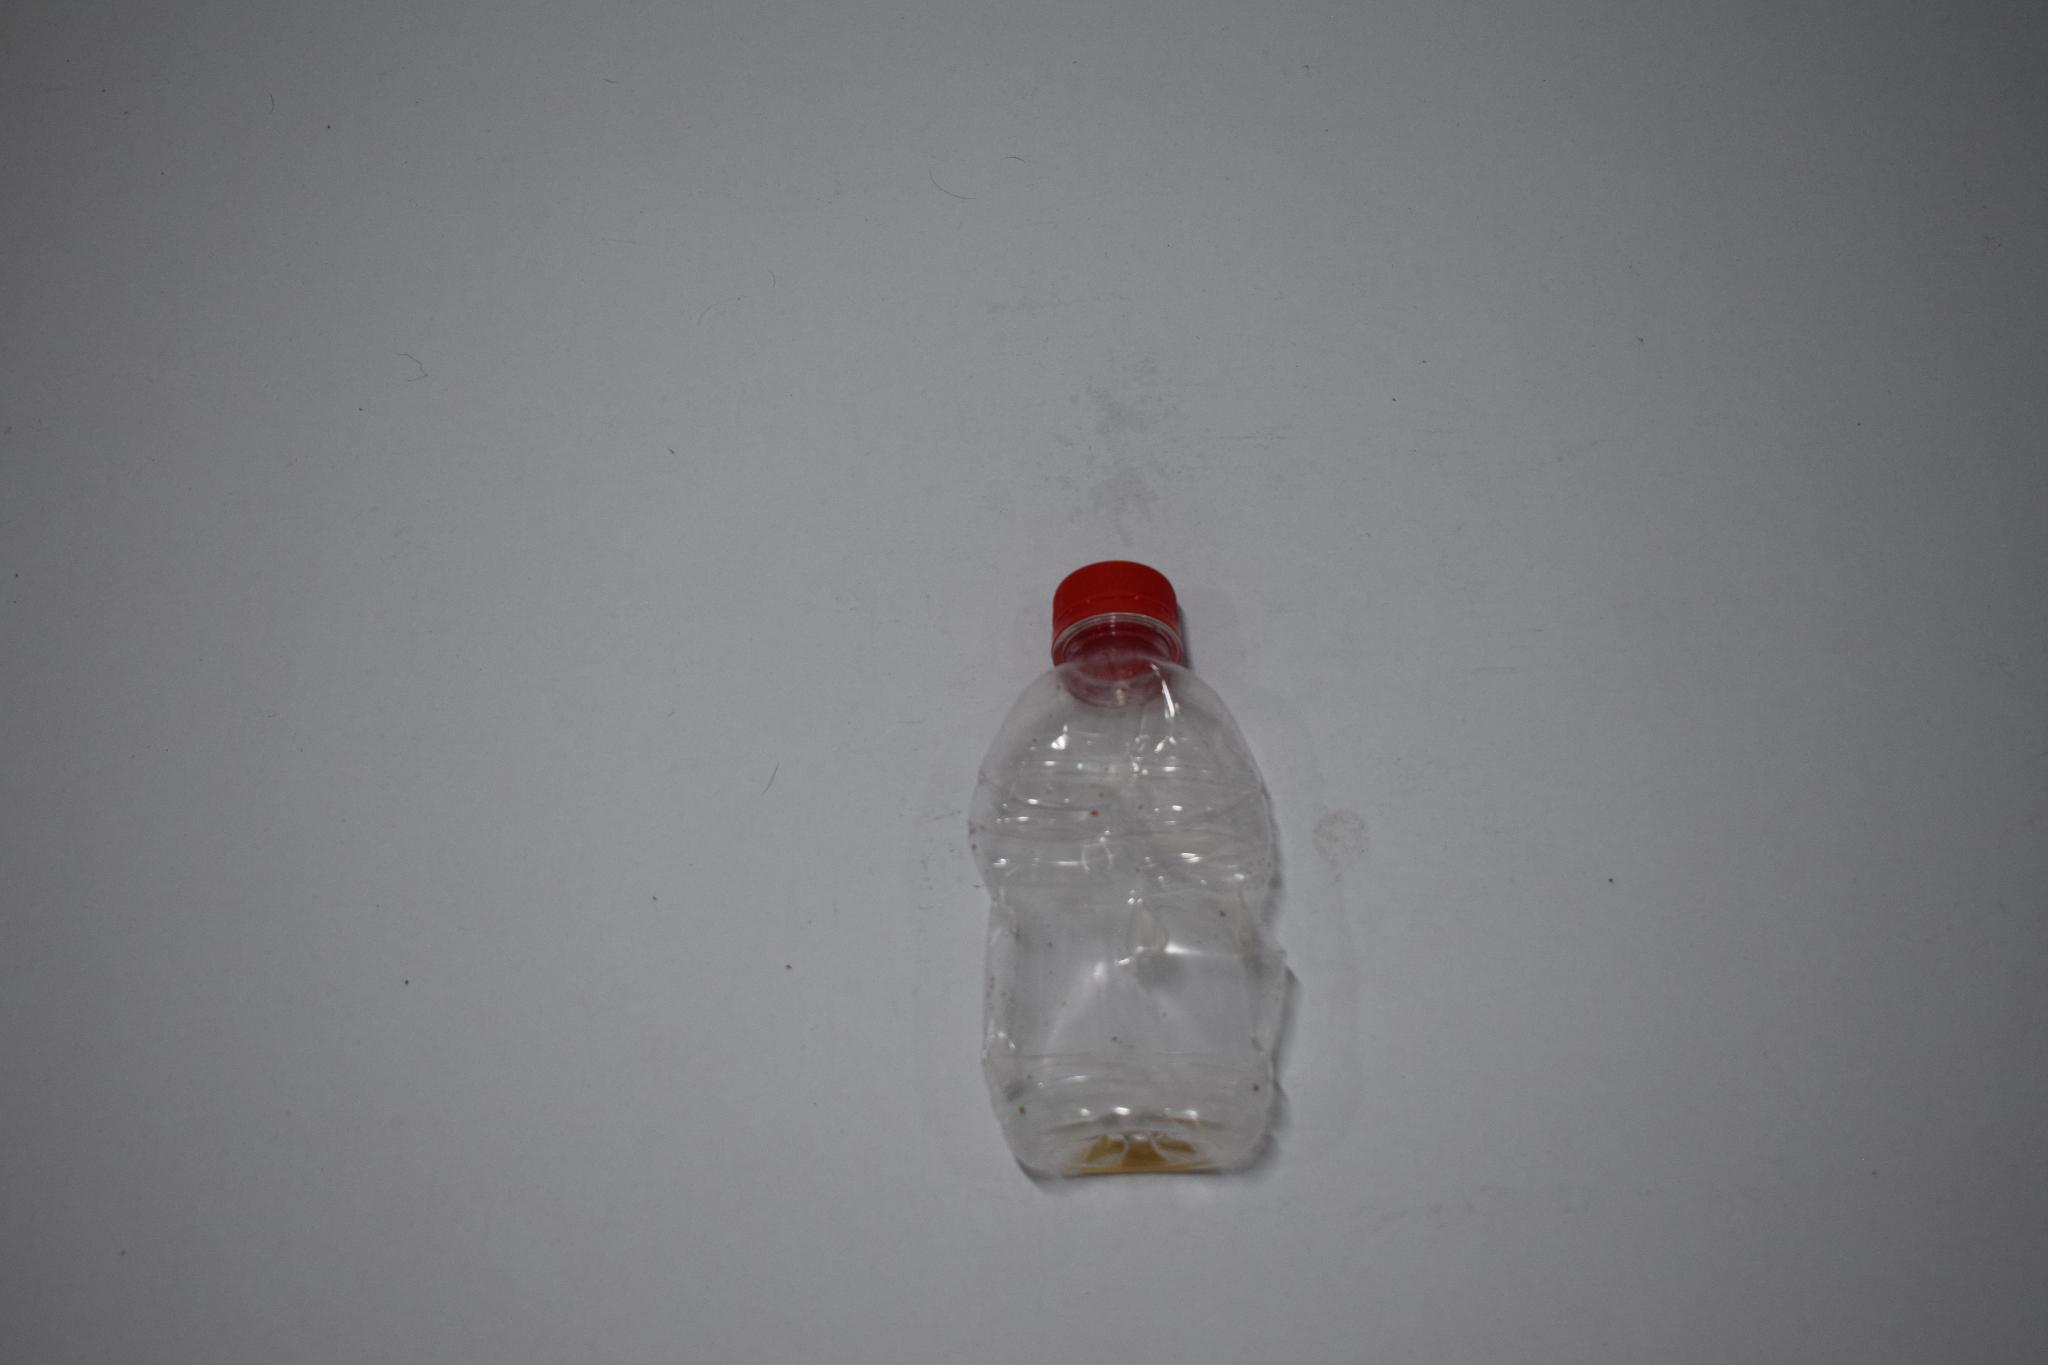bottle: (959, 547, 1319, 1188)
